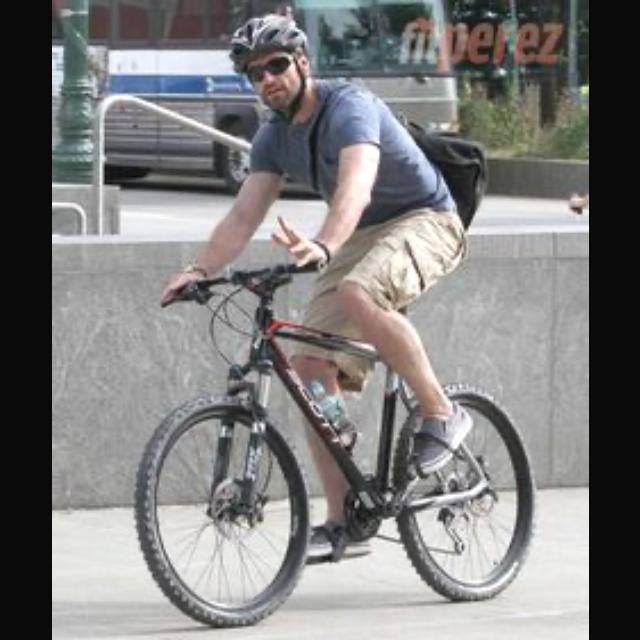With Helmet: (212, 11, 322, 123)
